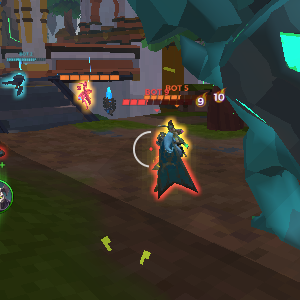model: (153, 129, 188, 202), (163, 114, 188, 161), (73, 78, 90, 110)
